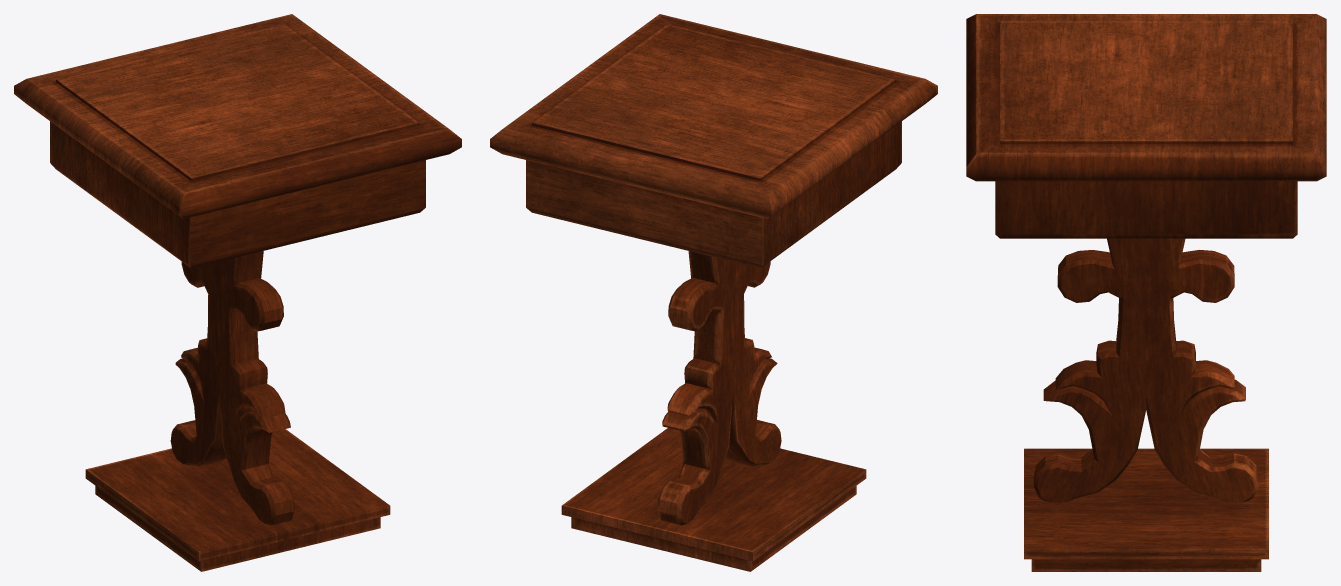
Rendered from SM_Mini_Desk.fbx.
3 renders of one model, left to right at view 1: azimuth 30°, elevation 25°; view 2: azimuth 150°, elevation 25°; view 3: azimuth 270°, elevation 25°, orthographic. The views are drawn at different scales.
Visible parts, largest first — view 1: SM_Mini_Desk; view 2: SM_Mini_Desk; view 3: SM_Mini_Desk.
Part boxes in pixels (box(x1,y1,x2,y2)): SM_Mini_Desk: box(14, 14, 461, 571); SM_Mini_Desk: box(490, 14, 937, 571); SM_Mini_Desk: box(966, 14, 1326, 571).
Bounding box in the file's own units: 40.27 × 41.3 × 56.1.
1 material, 1 textured.
